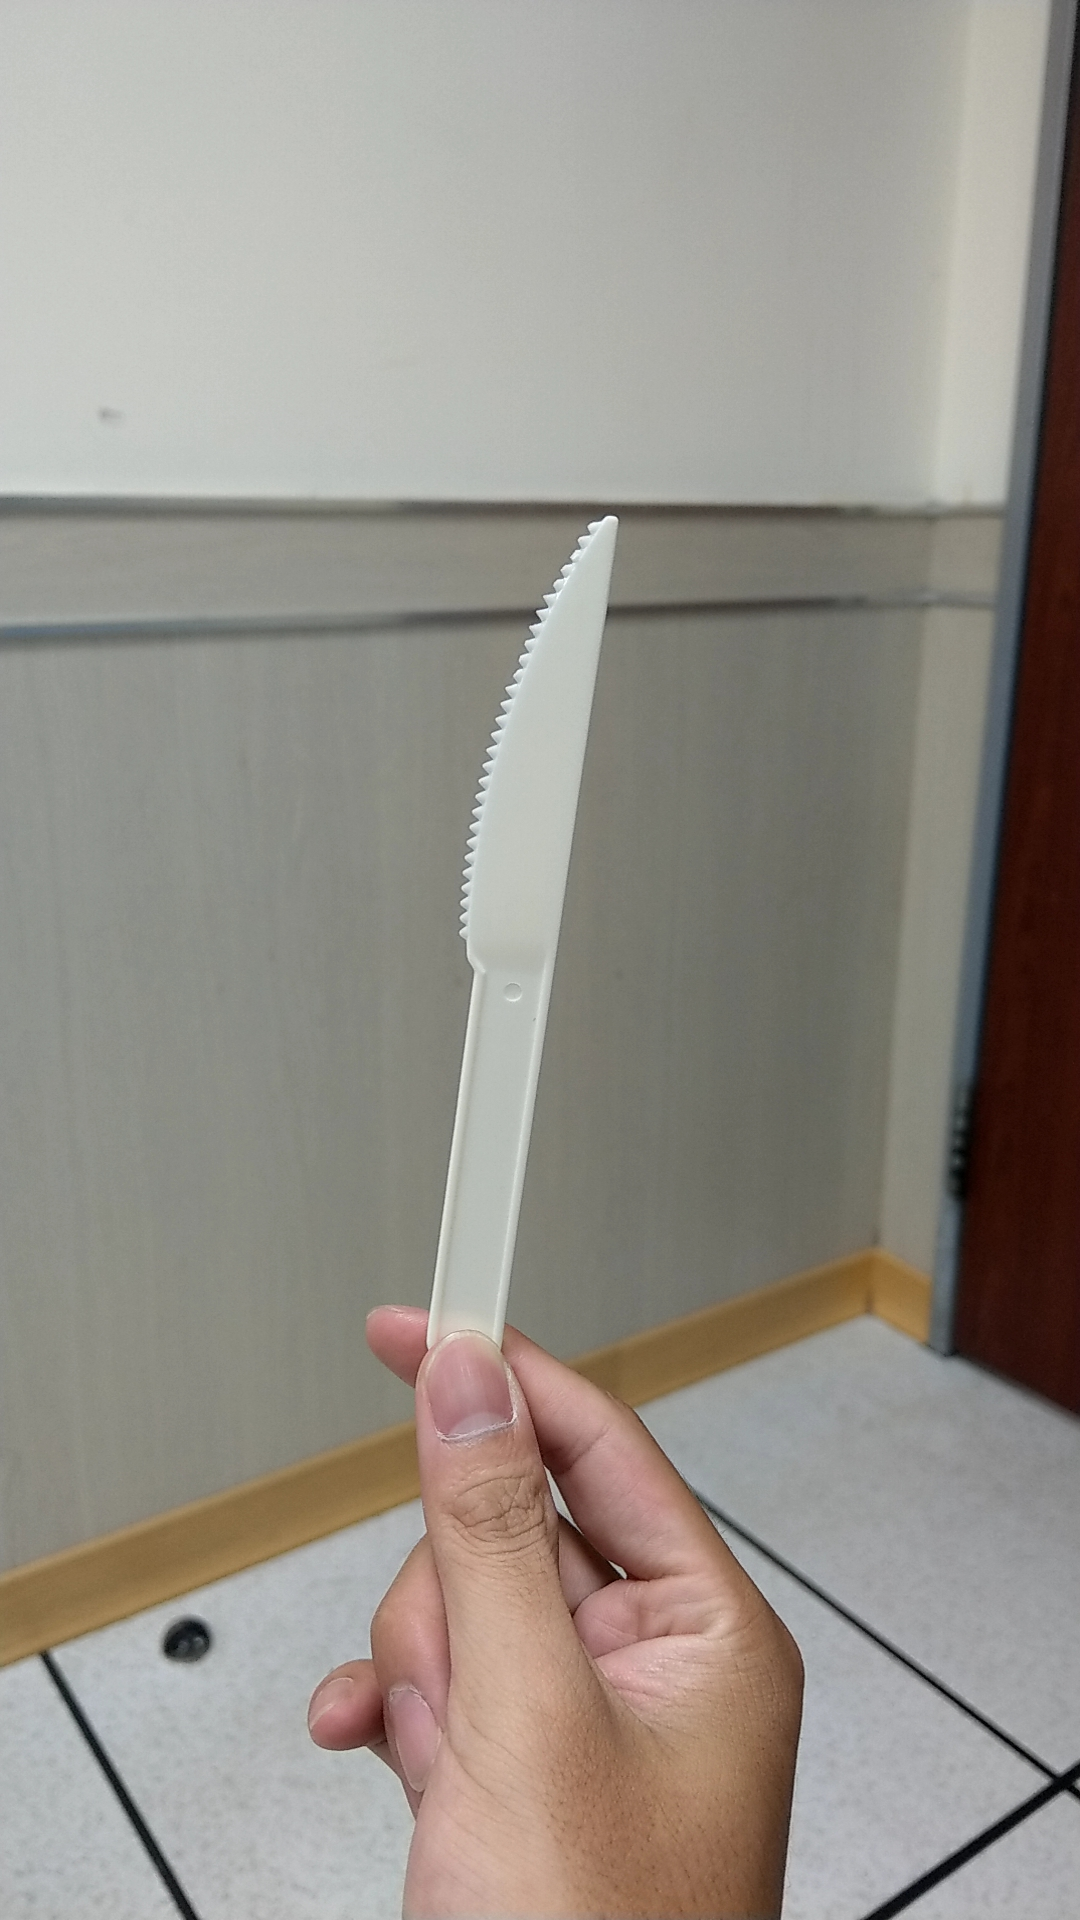knife: (390, 514, 644, 1286)
